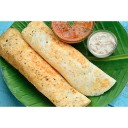dosa: (1, 21, 116, 105)
